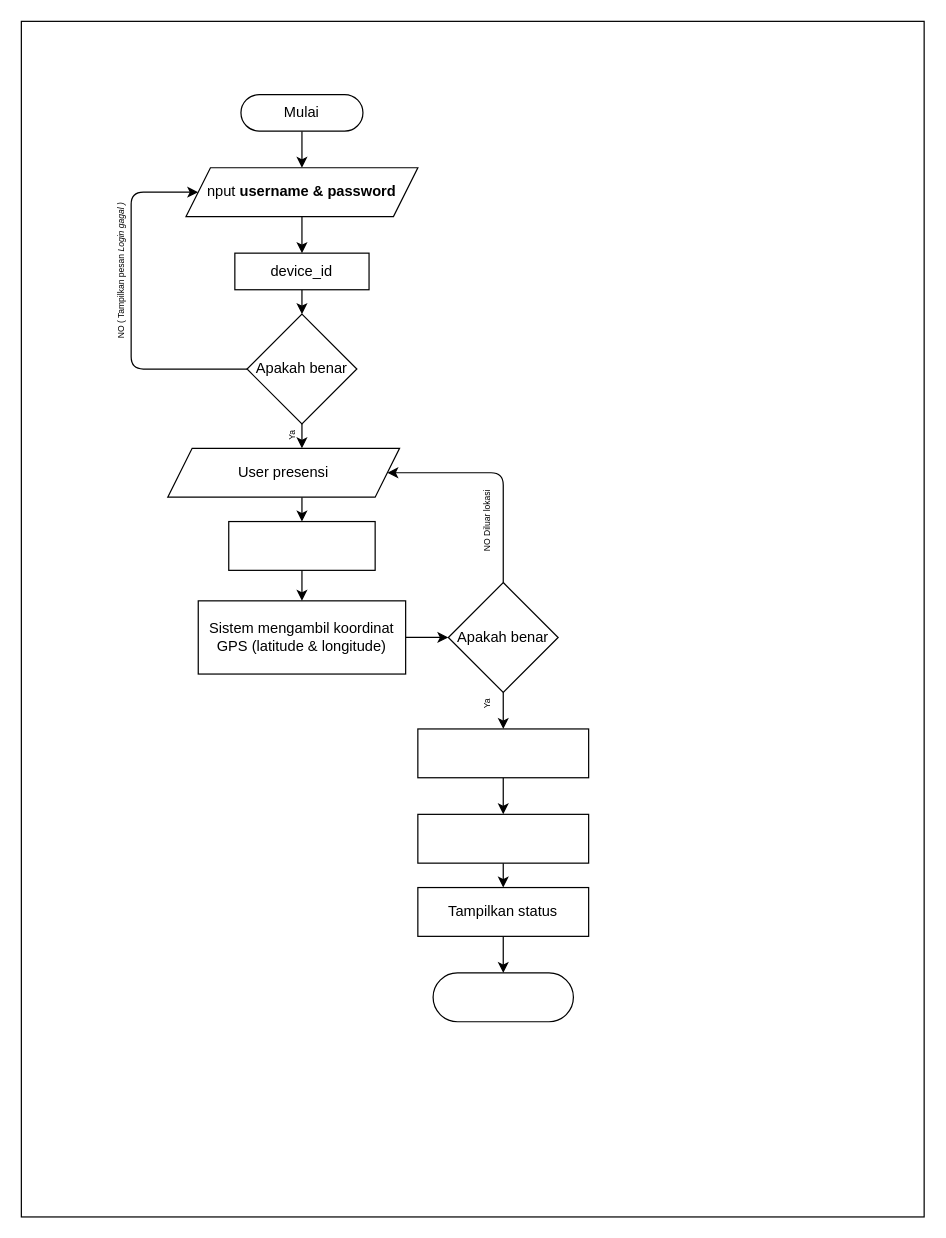
This 946x1238 diagram has some shape labels left out. The centre of each missing label's shape, as x and y in pixels:
"Jeni spresensi ambil lokasi user" belongs at (x=301, y=545).
"Jenis Presensi Butuh Validasi?" belongs at (x=503, y=838).
"Kirim ke server" belongs at (x=503, y=753).
"Selesai" belongs at (x=502, y=997).
